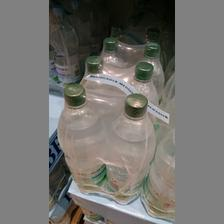Wasser: (102, 92, 154, 204), (56, 82, 104, 194)
